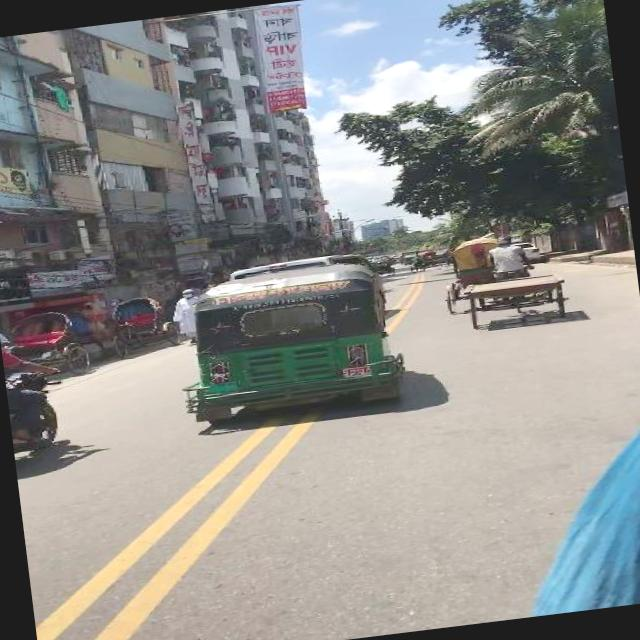motorcycle: (170, 253, 410, 424), (454, 228, 576, 332), (0, 306, 94, 382), (101, 289, 184, 361), (436, 233, 506, 314), (408, 248, 442, 272)
